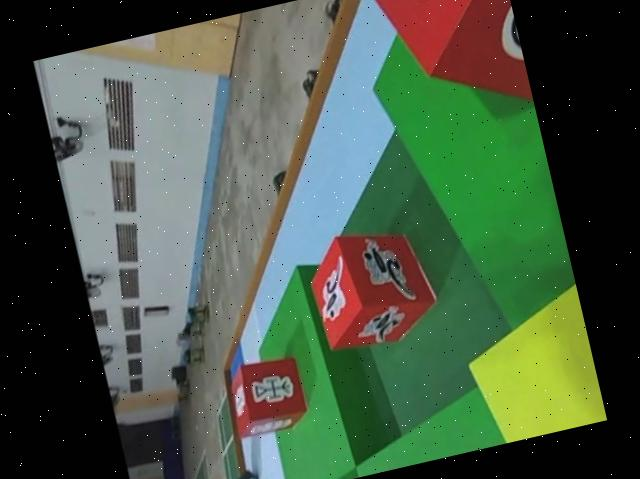R1: (298, 214, 446, 360)
R2 Real: (366, 0, 534, 138), (219, 349, 313, 442)
